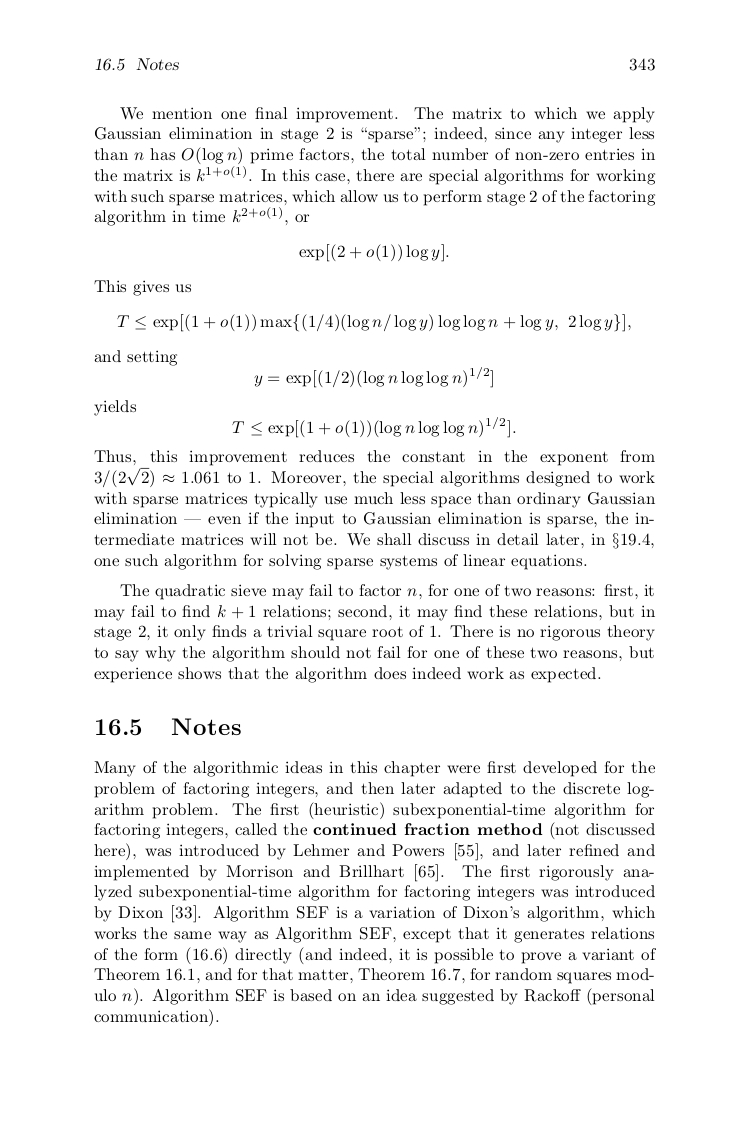formula: (117, 312, 630, 332), (232, 417, 515, 437), (254, 367, 492, 387), (299, 242, 448, 262)
